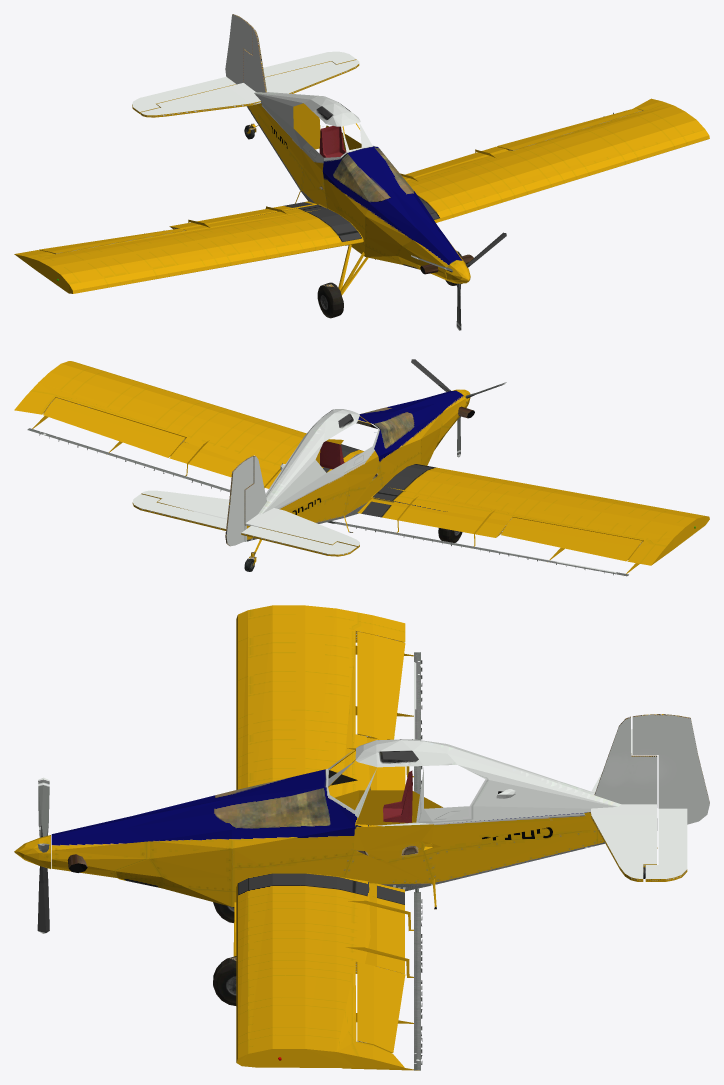
Rendered from ChimNirThrush_LOD2.gltf.
The picture shows the model from 3 angles, top to bottom: view 1: azimuth 30°, elevation 25°; view 2: azimuth 150°, elevation 25°; view 3: azimuth 270°, elevation 25°; orthographic projection. The views are drawn at different scales.
Parts seen in each view (by area): view 1: node18, node15, node19; view 2: node18, node15; view 3: node18, node15, node19.
Part boxes in pixels (x1=…): node18: x1=14, y1=51, x2=709, y2=293; node15: x1=225, y1=14, x2=506, y2=330; node19: x1=293, y1=103, x2=361, y2=150; node18: x1=14, y1=361, x2=709, y2=576; node15: x1=225, y1=359, x2=506, y2=571; node18: x1=236, y1=605, x2=687, y2=1070; node15: x1=14, y1=714, x2=709, y2=1005; node19: x1=328, y1=750, x2=442, y2=825.
Size of the model in its own units: 14.49 by 3.78 by 9.57.
